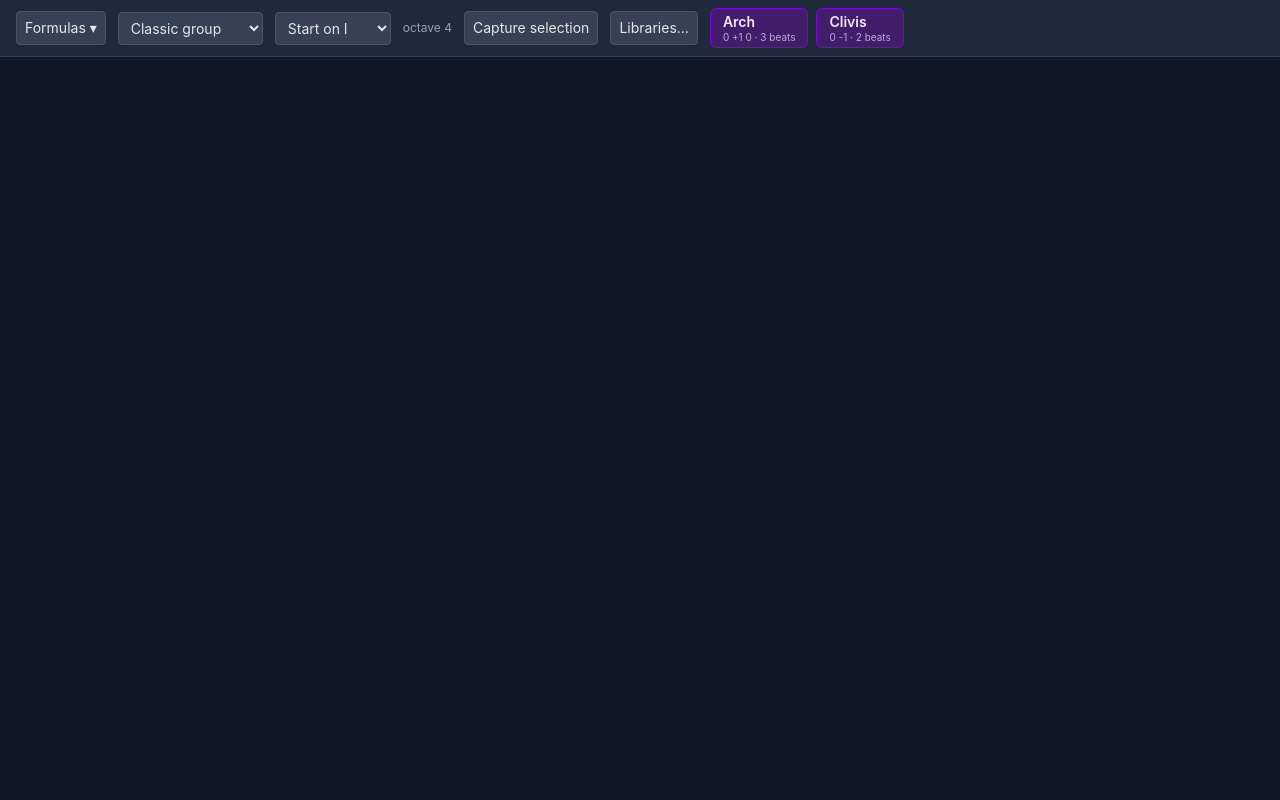
it: FormulaPalette › captures a chord rather than reporting it as skipped
Click the button with test id "formula-capture" at [531, 28], box 464,11 -> 598,45
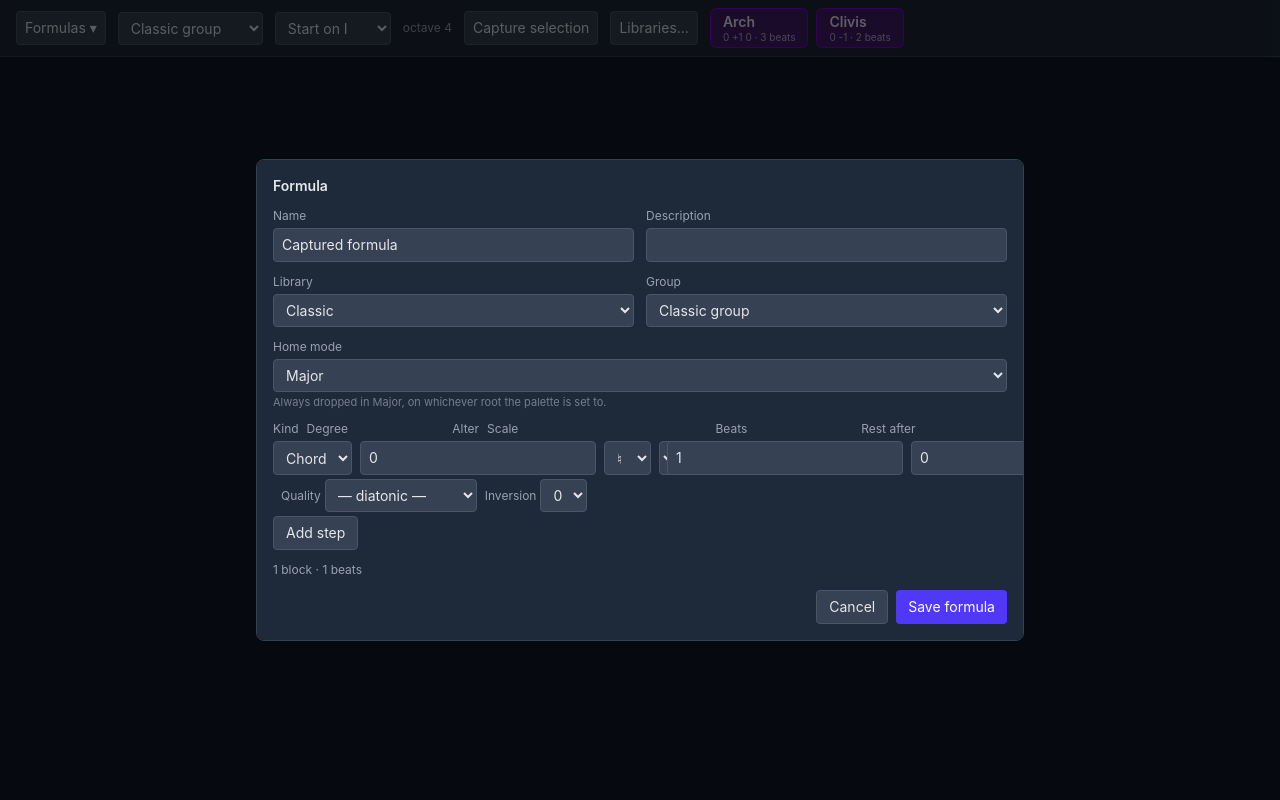
Expected: the dropdown named "Step 1 kind" shows "Chord", 273,441 -> 352,475
Expected: the dropdown named "Step 1 quality" shows "— diatonic —", 325,479 -> 477,512
